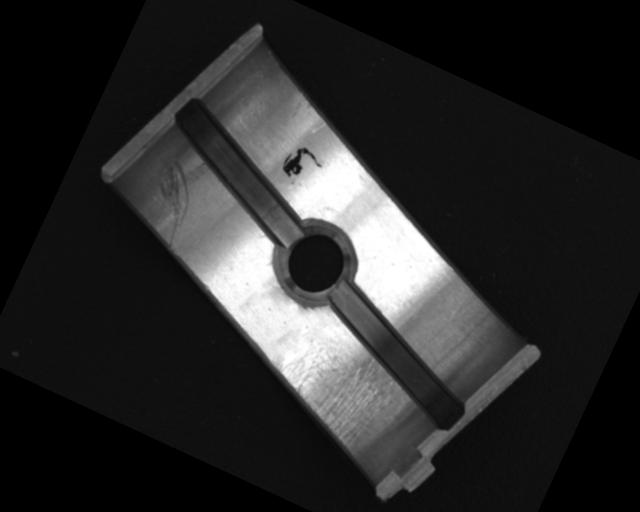blot: (278, 139, 328, 189)
gap: (298, 278, 497, 438), (142, 91, 337, 252)
hole: (266, 211, 365, 312)
nick: (130, 150, 208, 249)
scratch: (257, 323, 402, 458)
